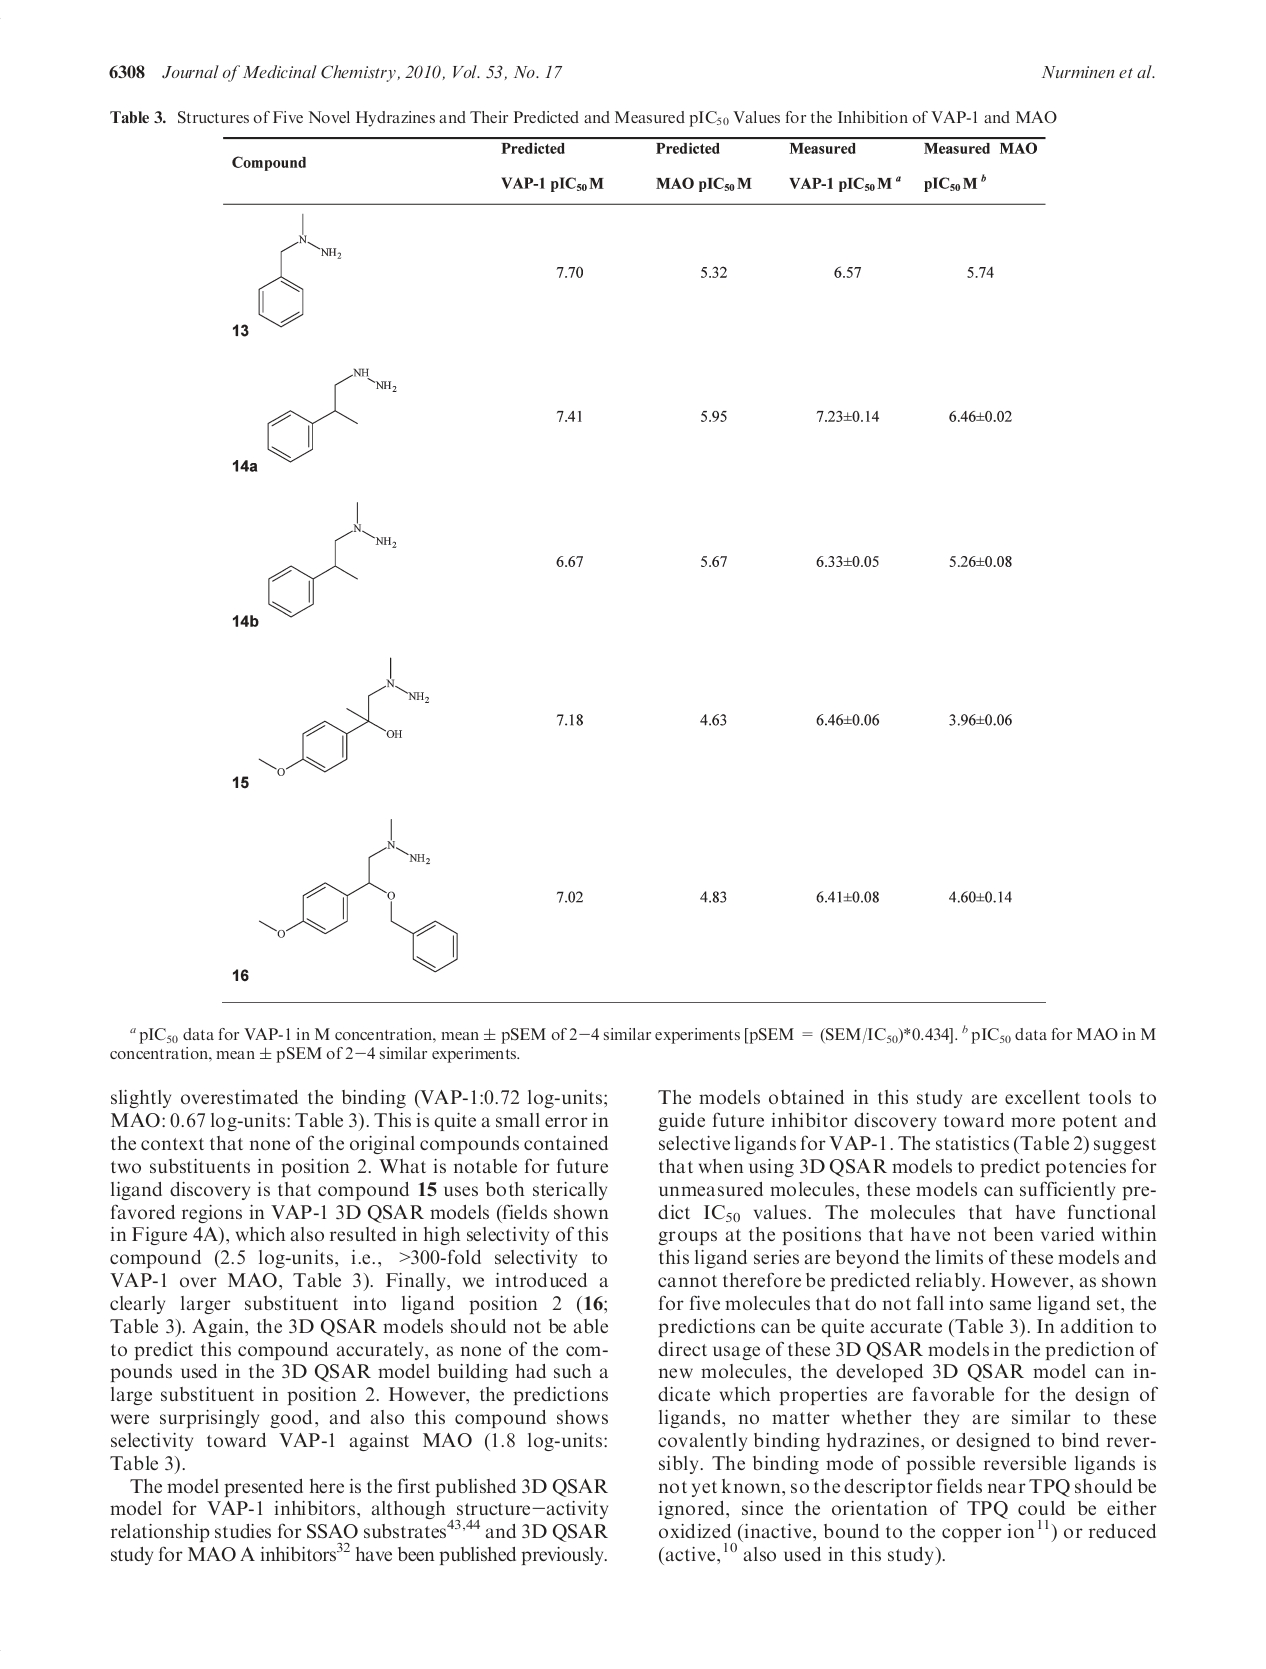exist_molecular: (258, 817, 461, 975), (257, 653, 434, 775), (265, 497, 399, 618), (265, 362, 399, 461), (254, 211, 344, 328)
